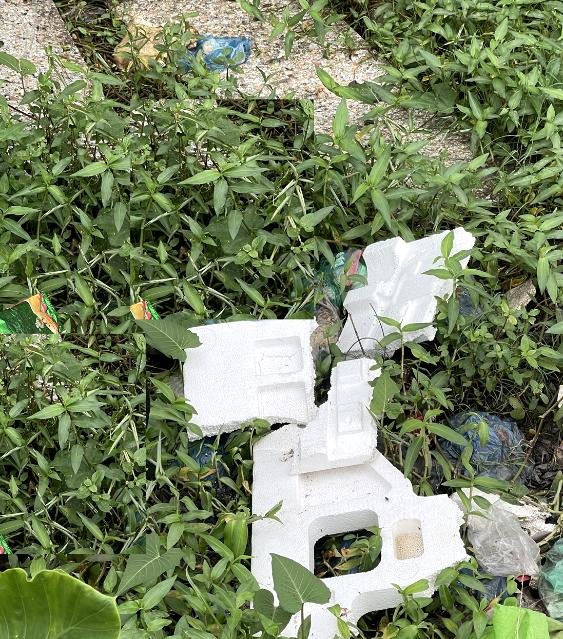cocksheet: (179, 360, 468, 639), (326, 196, 474, 389), (175, 306, 321, 435)
